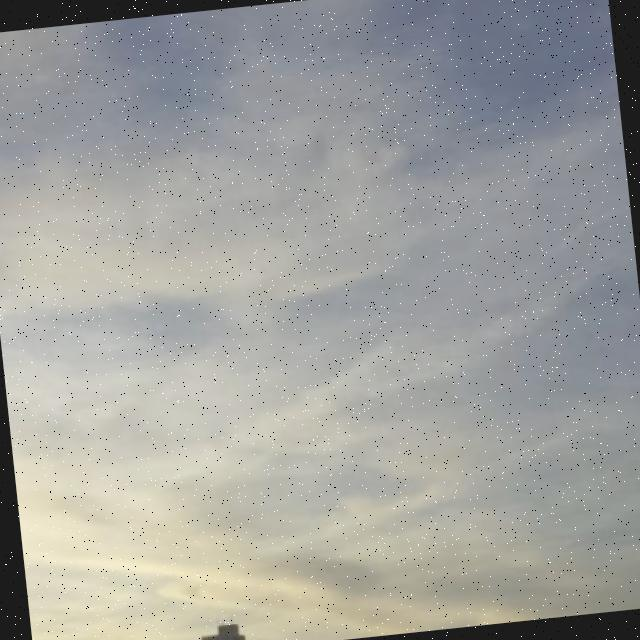Ct: (1, 7, 640, 548)
